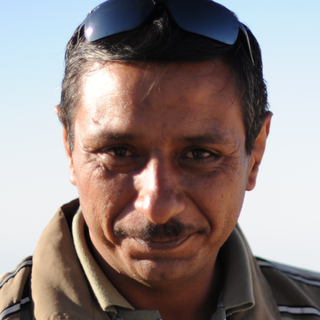eye: (169, 140, 229, 175), (87, 138, 145, 172)
